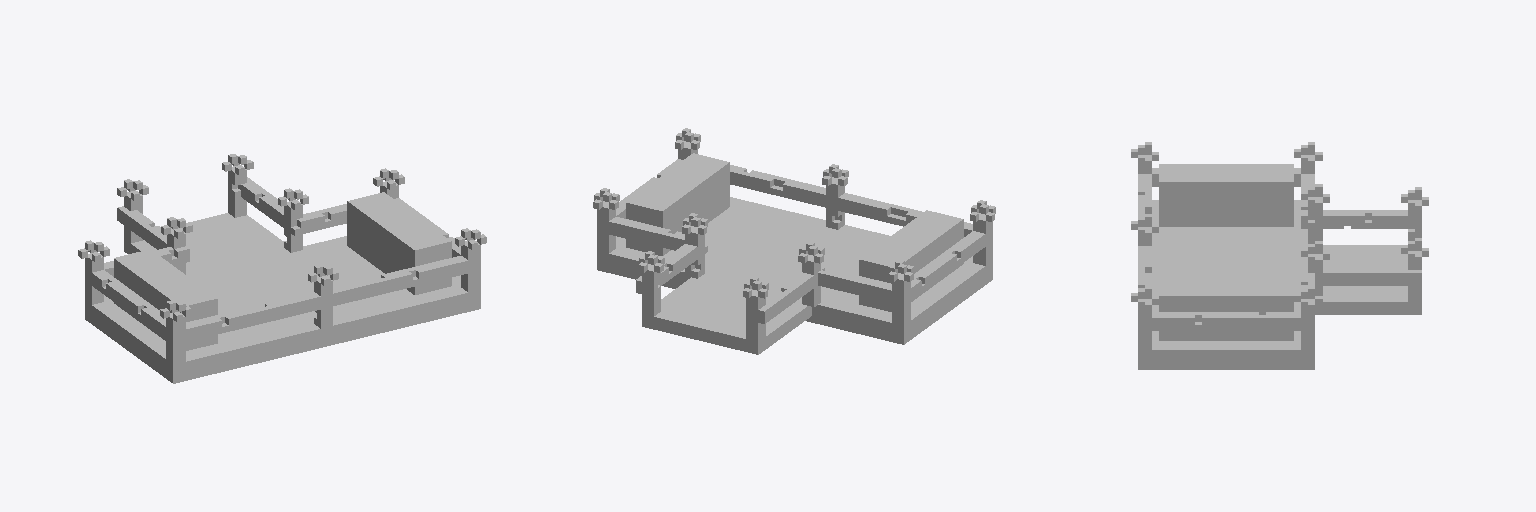
File: lVL3 START.obj
3 renders of one model, left to right at view 1: azimuth 30°, elevation 25°; view 2: azimuth 150°, elevation 25°; view 3: azimuth 270°, elevation 25°, orthographic.
Visible parts, largest first — view 1: lVL3 START; view 2: lVL3 START; view 3: lVL3 START.
Part boxes in pixels (x1,y1,x2,y2): lVL3 START: (78, 154, 486, 383); lVL3 START: (593, 128, 995, 354); lVL3 START: (1131, 142, 1428, 369).
Size of the model in its own units: 52 by 12 by 42.